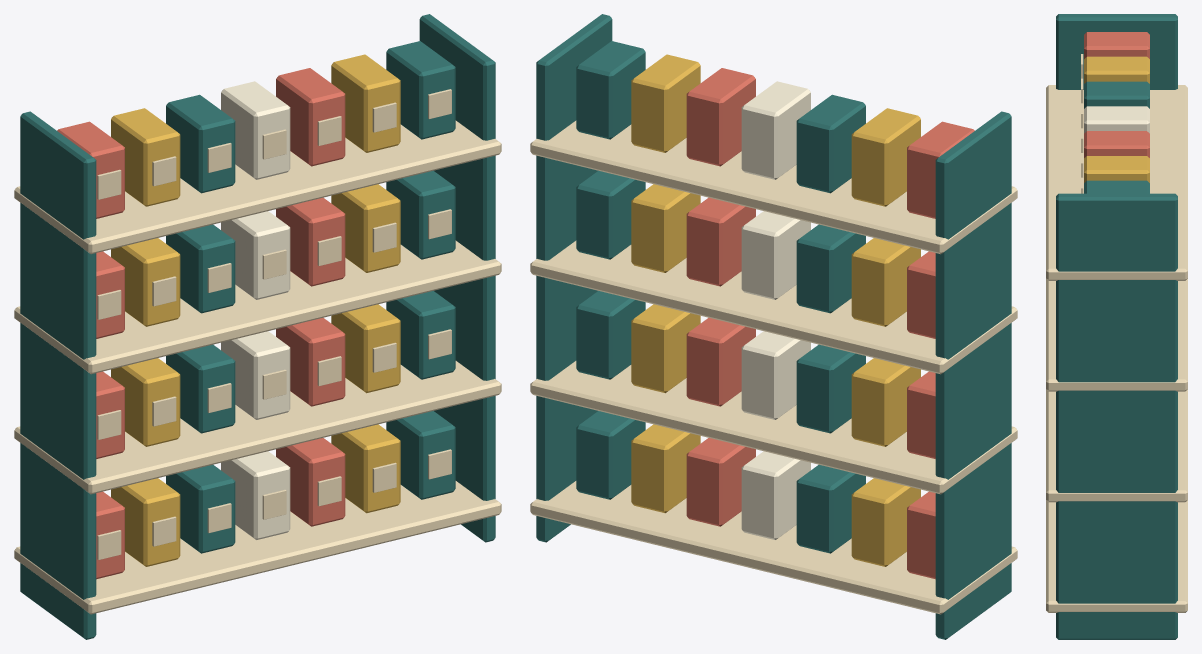
Rendered from Prop_RetailShelf.fbx.
3 views of the same model, side by side, from view 1: azimuth 30°, elevation 25°; view 2: azimuth 150°, elevation 25°; view 3: azimuth 270°, elevation 25° (orthographic). The views are drawn at different scales.
Parts seen in each view (by area): view 1: Frame.002, Frame.003, Shelf.001, Shelf.002, Shelf.003, Shelf, Product.024, Product.023, Product.026, Product.022, Product.025, Product.027 (+22 smaller); view 2: Frame.002, Frame.003, Shelf.001, Shelf.002, Shelf.003, Shelf, Product.024, Product.023, Product.026, Product.027, Product.022, Product.025 (+22 smaller); view 3: Frame.003, Shelf.003, Frame.002, Shelf.001, Shelf.002, Shelf, Product.023, Product.022, Product.024, Product.025, Product.021, Product.026 (+1 smaller).
Part boxes in pixels (<box>): Frame.002: <box>20,111,96,639</box>; Frame.003: <box>419,14,495,542</box>; Shelf.001: <box>14,361,501,494</box>; Shelf.002: <box>14,240,501,374</box>; Shelf.003: <box>14,120,501,254</box>; Shelf: <box>14,481,501,614</box>; Product.024: <box>221,81,290,179</box>; Product.023: <box>166,94,235,193</box>; Product.026: <box>331,54,400,152</box>; Product.022: <box>111,108,180,206</box>; Product.025: <box>276,68,345,166</box>; Product.027: <box>386,41,455,139</box>; Frame.002: <box>935,111,1011,639</box>; Frame.003: <box>536,14,612,542</box>; Shelf.001: <box>530,361,1017,494</box>; Shelf.002: <box>530,240,1017,374</box>; Shelf.003: <box>530,120,1017,254</box>; Shelf: <box>530,481,1017,614</box>; Product.024: <box>741,81,810,179</box>; Product.023: <box>796,94,865,193</box>; Product.026: <box>631,54,700,152</box>; Product.027: <box>576,41,645,139</box>; Product.022: <box>851,108,920,206</box>; Product.025: <box>686,68,755,166</box>; Frame.003: <box>1056,193,1177,639</box>; Shelf.003: <box>1046,85,1187,280</box>; Frame.002: <box>1056,14,1177,89</box>; Shelf.001: <box>1046,389,1187,502</box>; Shelf.002: <box>1046,279,1187,391</box>; Shelf: <box>1046,500,1187,612</box>; Product.023: <box>1084,81,1149,108</box>; Product.022: <box>1084,56,1149,83</box>; Product.024: <box>1084,106,1149,133</box>; Product.025: <box>1084,131,1149,157</box>; Product.021: <box>1084,32,1149,58</box>; Product.026: <box>1084,156,1149,182</box>.
Size of the model in its own units: 1.8 by 2 by 0.58.
